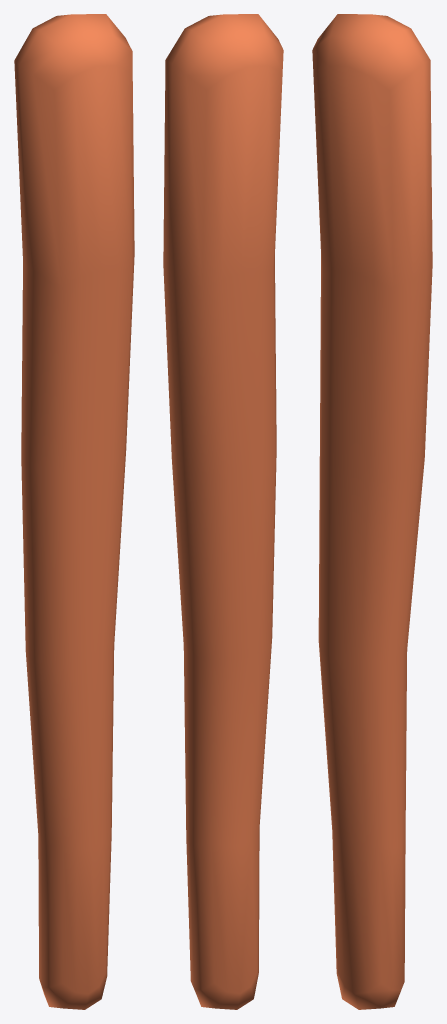
File: Wooden_Sword.fbx
3 views of the same model, side by side, from view 1: azimuth 30°, elevation 25°; view 2: azimuth 210°, elevation 25°; view 3: azimuth 330°, elevation 25° (orthographic).
Parts seen in each view (by area): view 1: Wooden_Club; view 2: Wooden_Club; view 3: Wooden_Club.
Boxes of the visible parts, left/top/right/bottom form: Wooden_Club: left=14, top=14, right=134, bottom=1009; Wooden_Club: left=163, top=14, right=283, bottom=1009; Wooden_Club: left=312, top=14, right=432, bottom=1009.
Bounding box in the file's own units: 0.0564 × 0.4917 × 0.0428.
